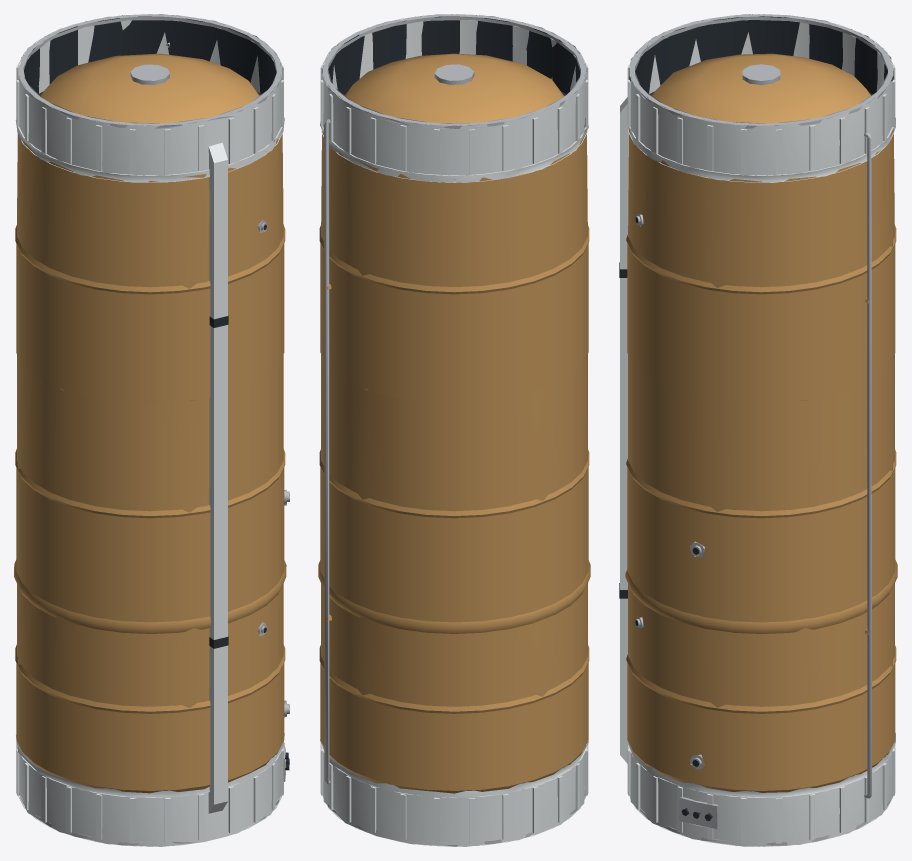
The model's file is tank_s2_l_hydrolox.glb.
3 renders of one model, left to right at view 1: azimuth 30°, elevation 25°; view 2: azimuth 150°, elevation 25°; view 3: azimuth 270°, elevation 25°, orthographic.
Visible parts, largest first — view 1: tank_s2_l_hydrolox_mesh; view 2: tank_s2_l_hydrolox_mesh; view 3: tank_s2_l_hydrolox_mesh.
Part boxes in pixels (left/top/right/bottom): tank_s2_l_hydrolox_mesh: left=14, top=14, right=289, bottom=846; tank_s2_l_hydrolox_mesh: left=318, top=14, right=590, bottom=846; tank_s2_l_hydrolox_mesh: left=619, top=14, right=897, bottom=846.
Size of the model in its own units: 5.58 by 16.2 by 5.67.
